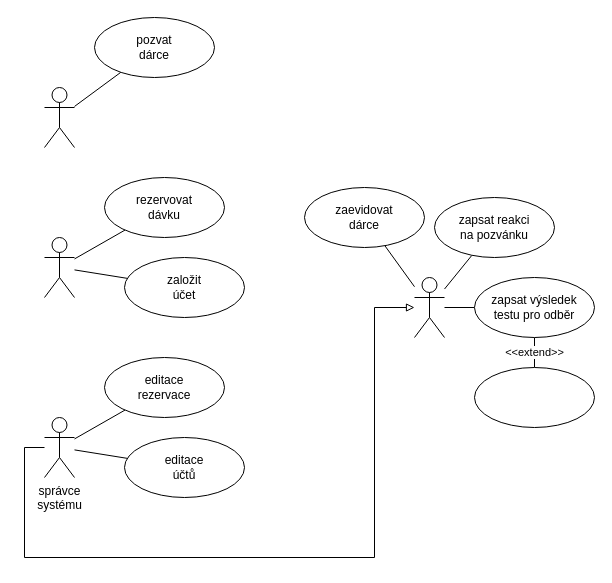
The diagram is 612 pixels wide and 583 high, and some of its shapes have lost their labels. The centre of each missing label's shape, as x and y in pixels:
klient: point 59,267
pracovník pobočky: point 429,307
zapsat výsledek testu vhodnosti pro konzumaci: point 534,397
čas: point 59,117
